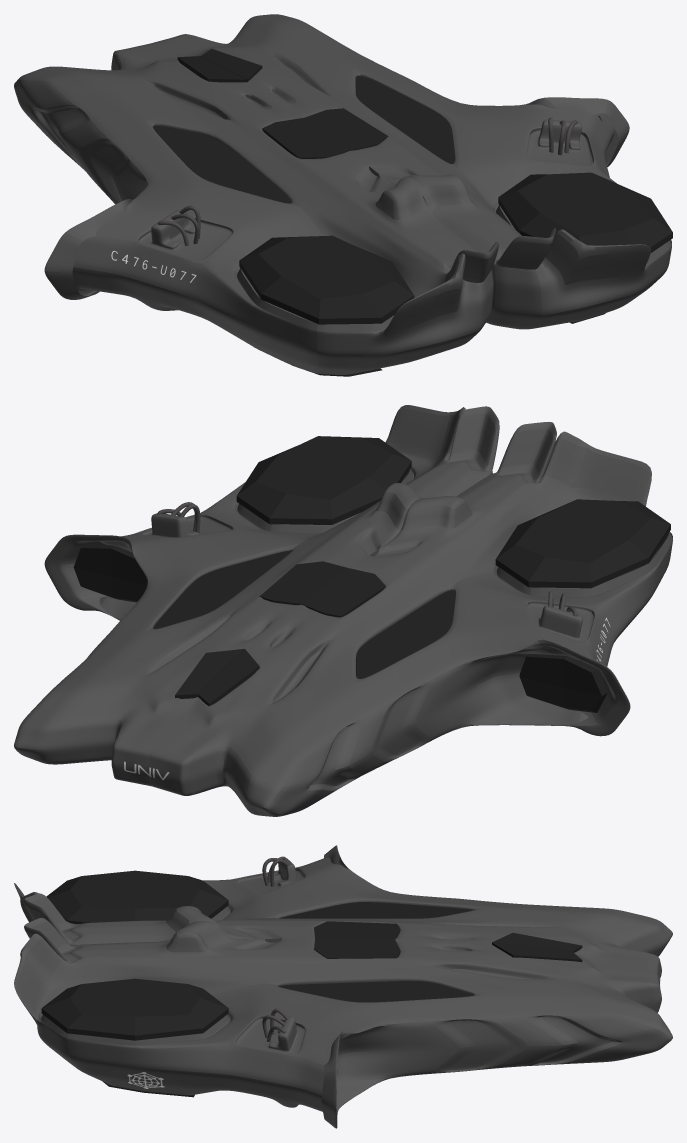
File: ship.glb
The picture shows the model from 3 angles, top to bottom: view 1: azimuth 30°, elevation 25°; view 2: azimuth 150°, elevation 25°; view 3: azimuth 270°, elevation 25°; orthographic projection. The views are drawn at different scales.
Parts seen in each view (by area): view 1: ship, light_glass, quantum_engine; view 2: ship, light_glass, quantum_engine; view 3: ship, light_glass, quantum_engine.
Part boxes in pixels (left/top/right/bottom): ship: left=14, top=14, right=671, bottom=374; light_glass: left=153, top=49, right=672, bottom=376; quantum_engine: left=157, top=117, right=577, bottom=245; ship: left=14, top=405, right=672, bottom=816; light_glass: left=73, top=436, right=670, bottom=712; quantum_engine: left=157, top=502, right=577, bottom=616; ship: left=14, top=845, right=672, bottom=1128; light_glass: left=41, top=870, right=582, bottom=1097; quantum_engine: left=262, top=856, right=289, bottom=1041.
Bounding box in the file's own units: 1.33 × 0.3196 × 1.52.
7 materials, 3 textured.
